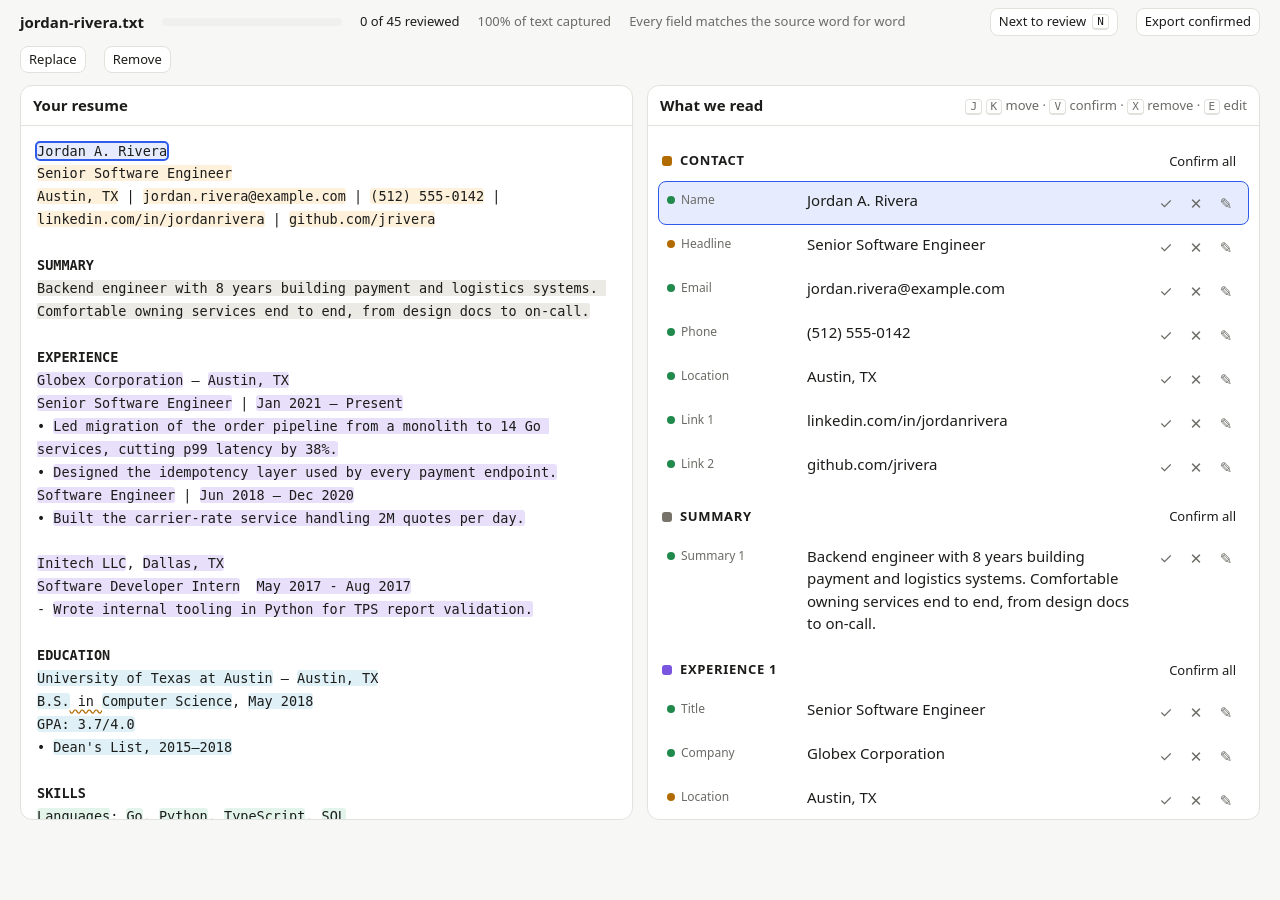
correcting a field › takes what the user types as the user's own words, marked as typed
The image size is (1280, 900).
Click the button named "Edit" at (1226,247), box [1212,233,1240,261]
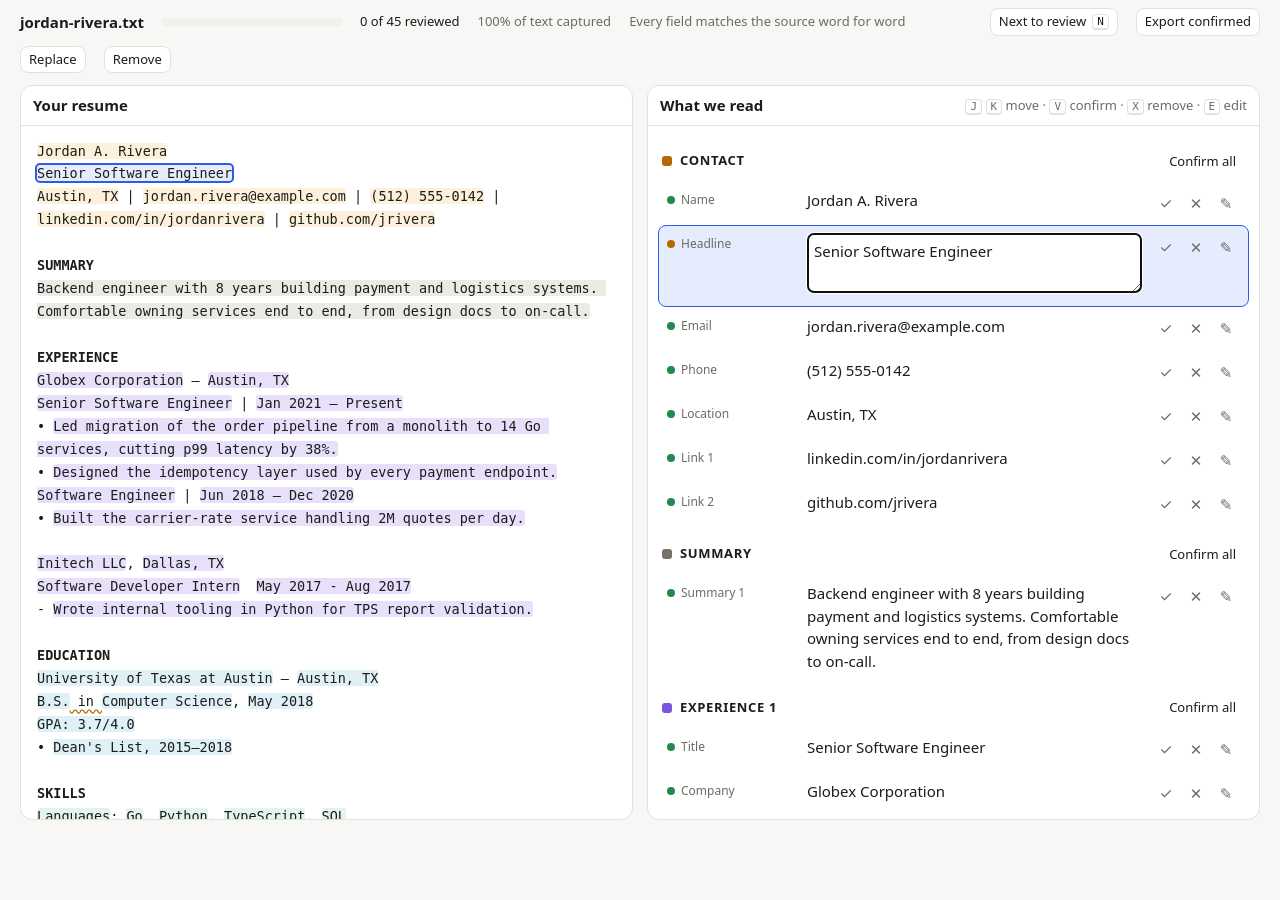
Replace the text in the text box with "  Staff Engineer  " at (974,263), box [807,233,1142,293]
Then press Enter
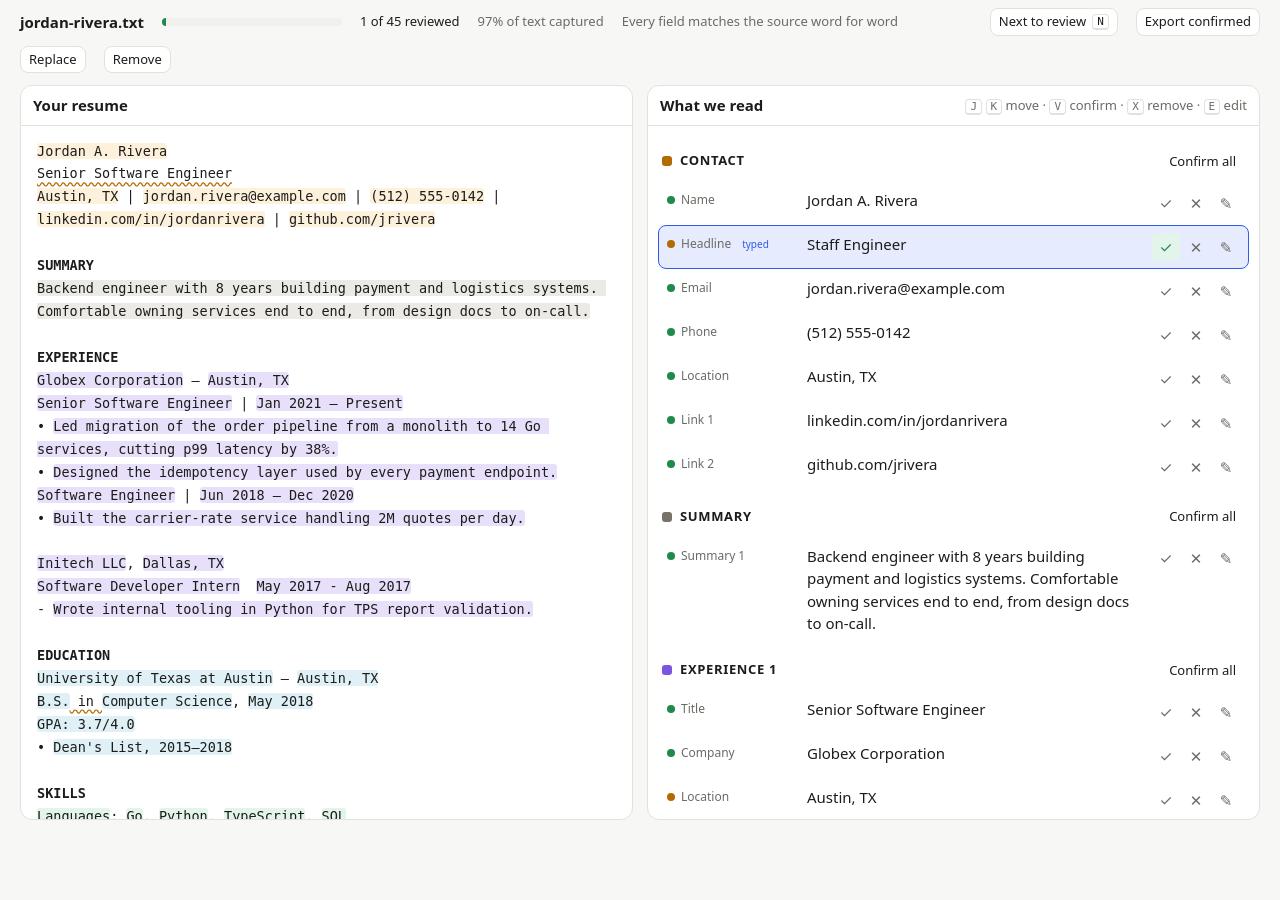
Expected: the text "Every field matches the source word for word" is shown, [622,12,898,32]
Now the element showing "Headline typed Staff Engineer ✓ ✕ ✎" is shown, box [658,225,1249,269]
Now the text "Staff Engineer" is shown, box [807,234,906,254]
